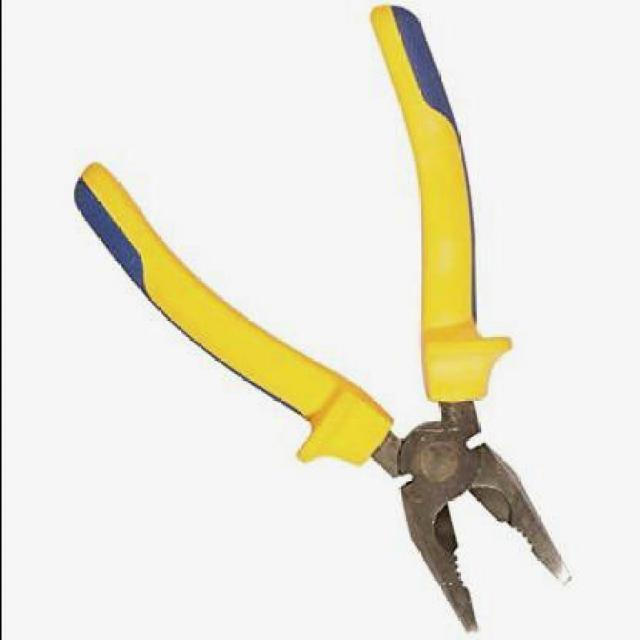pliers: (70, 8, 576, 630)
